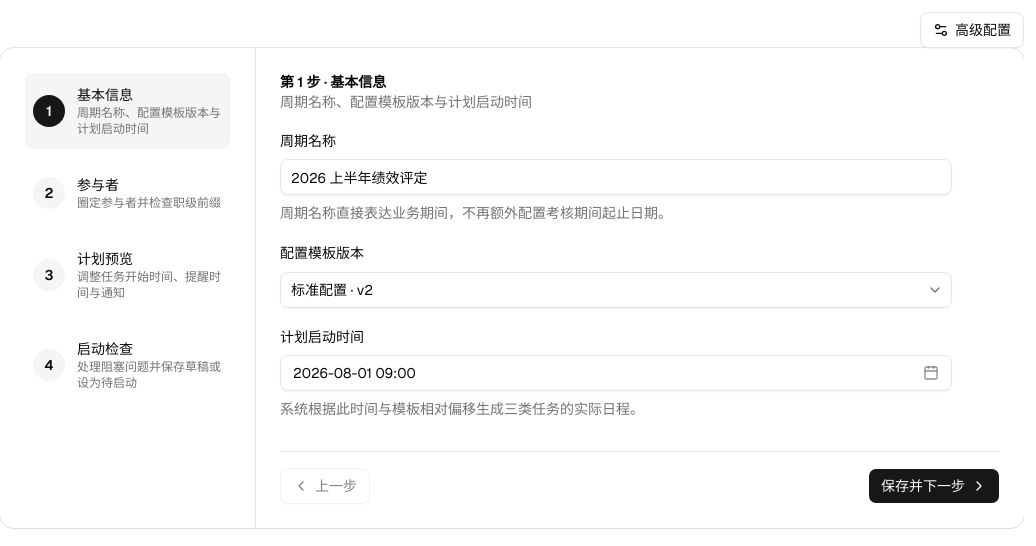
CycleSetupEditor › 参与者步骤使用 D/M 匹配结果，异常不能手工覆盖
The width and height of the screenshot is (1036, 546).
Step 1. Click the button "2 参与者 圈定参与者并检查职级前缀" → (128, 193), box [24,162,231,224]
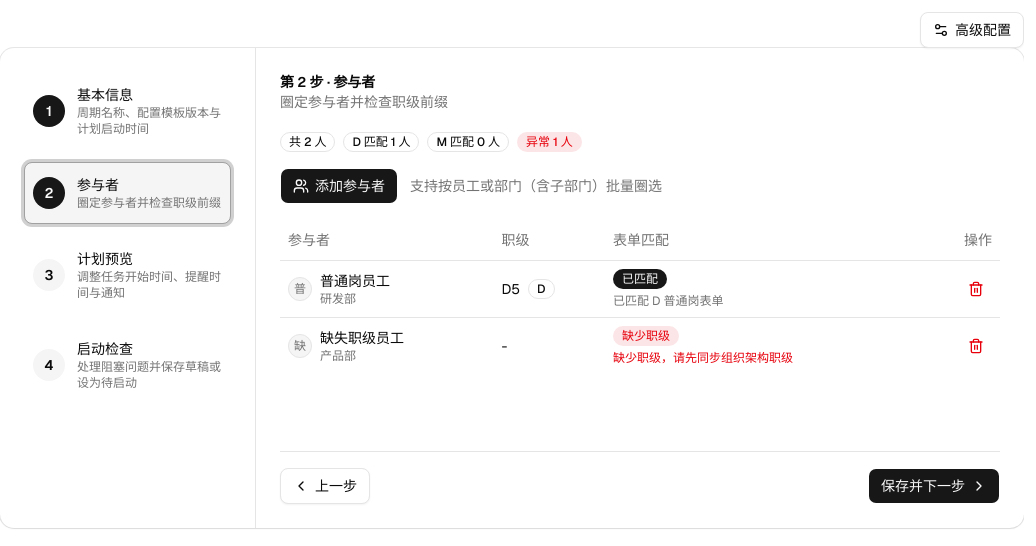
Result: the text "D 匹配 1 人" is shown at [343,132,419,152]
Result: the text "M 匹配 0 人" is shown at [428,132,509,152]
Result: the text "异常 1 人" is shown at [517,132,582,152]
